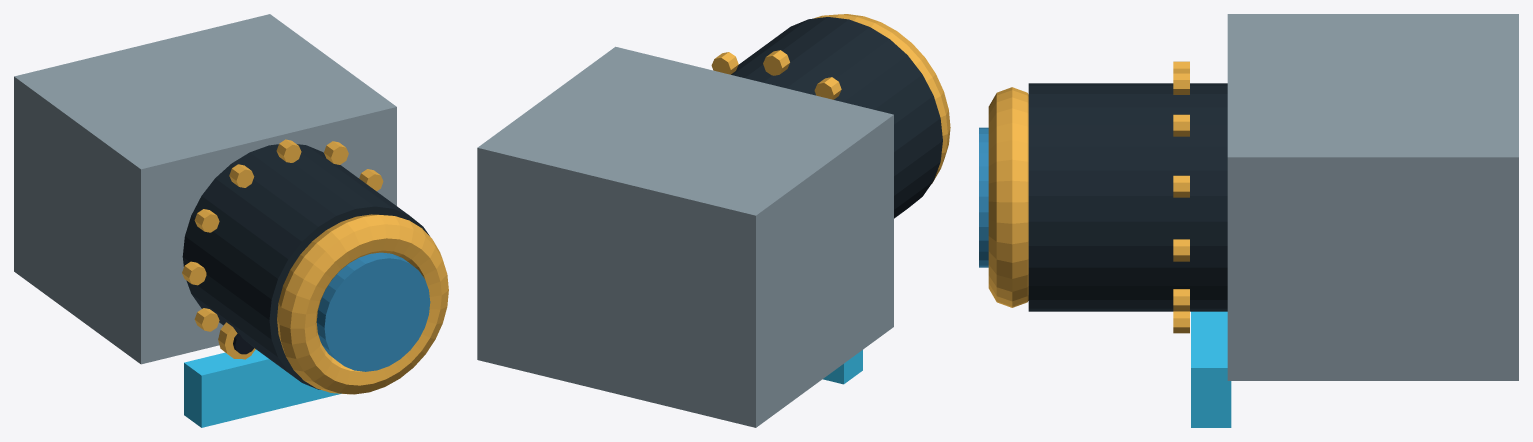
File: 41_L84_CoarseSunSensorCluster.fbx
3 views of the same model, side by side, from view 1: azimuth 30°, elevation 25°; view 2: azimuth 150°, elevation 25°; view 3: azimuth 270°, elevation 25° (orthographic). The views are drawn at different scales.
Visible parts, largest first — view 1: L84_CoarseSunSensorCluster, L84_CoarseSunSensorCluster_Part_0006; view 2: L84_CoarseSunSensorCluster; view 3: L84_CoarseSunSensorCluster.
Part boxes in pixels (bbox=[...]): L84_CoarseSunSensorCluster: bbox=[14, 14, 448, 427]; L84_CoarseSunSensorCluster_Part_0006: bbox=[218, 322, 255, 358]; L84_CoarseSunSensorCluster: bbox=[477, 14, 950, 427]; L84_CoarseSunSensorCluster: bbox=[979, 14, 1518, 427].
Bounding box in the file's own units: 92 × 92.2 × 146.
